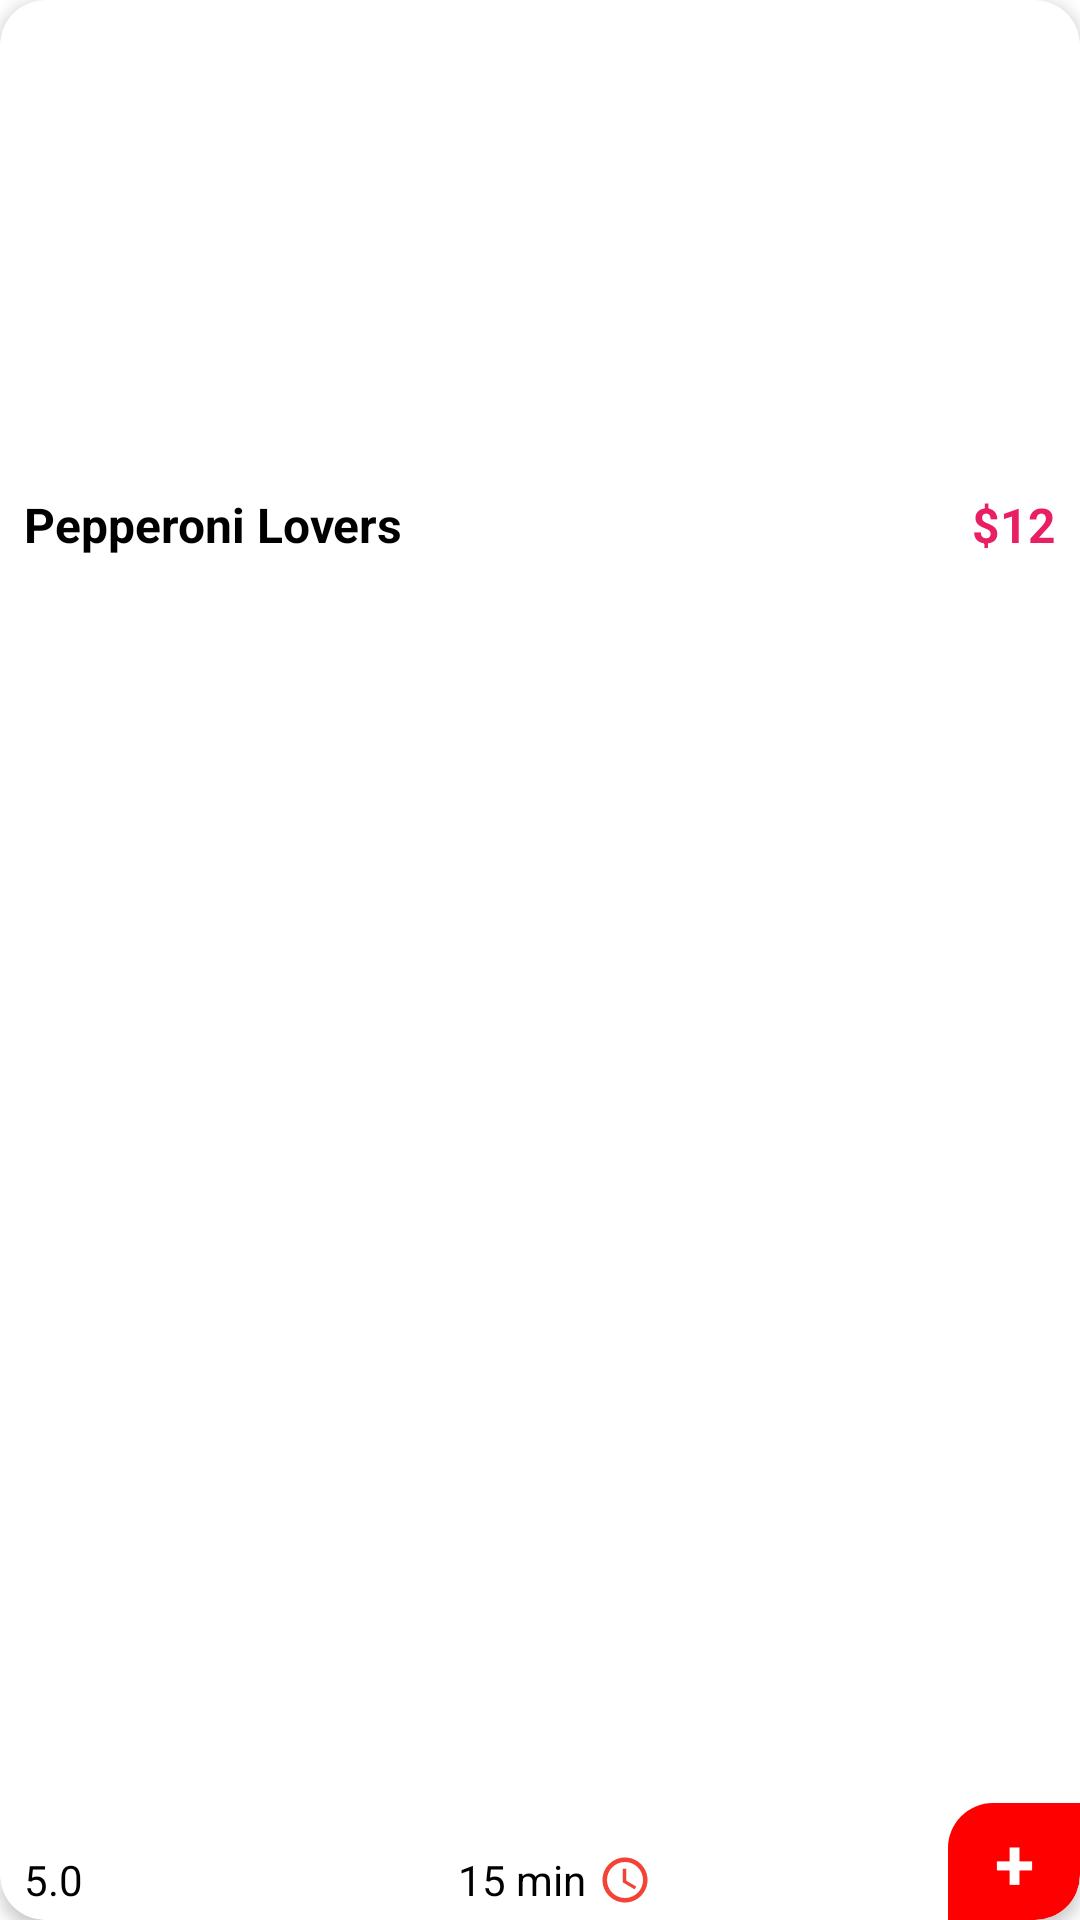

Where to tap for icons on this 1080px x 1920px app screen, as [x,y]:
time: [625,1880]
